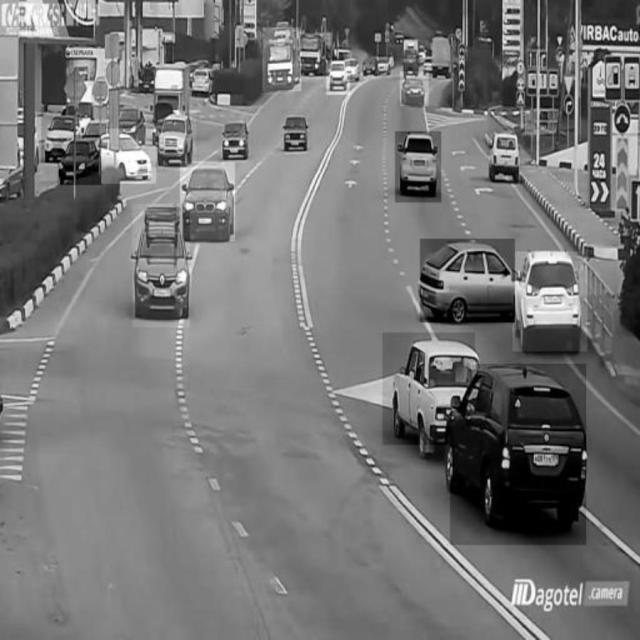vehicle: (451, 364, 587, 544), (383, 333, 475, 446), (419, 240, 515, 323), (512, 252, 586, 352), (133, 204, 190, 328), (180, 161, 235, 241), (395, 132, 441, 203), (101, 129, 156, 184), (262, 27, 300, 91), (57, 136, 102, 186), (158, 110, 196, 167), (42, 107, 77, 163), (487, 129, 521, 183), (218, 122, 254, 162), (282, 109, 312, 157), (430, 31, 456, 77), (400, 72, 428, 107), (326, 60, 350, 95), (190, 64, 214, 94)
